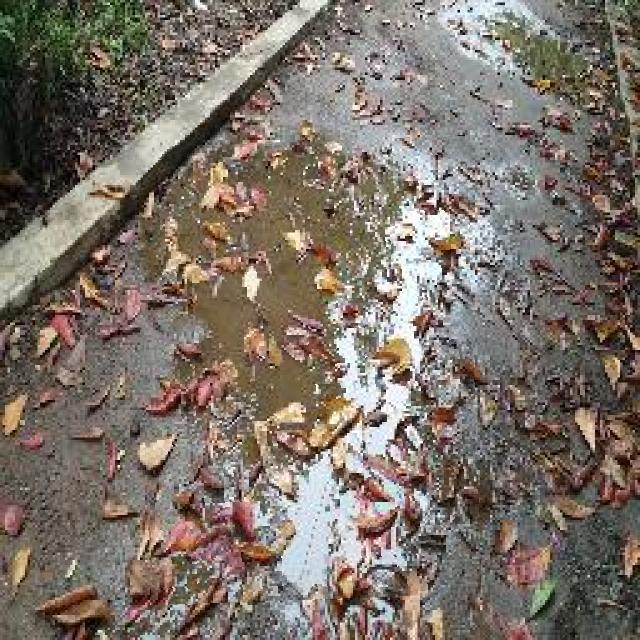puddle: (140, 140, 479, 604)
